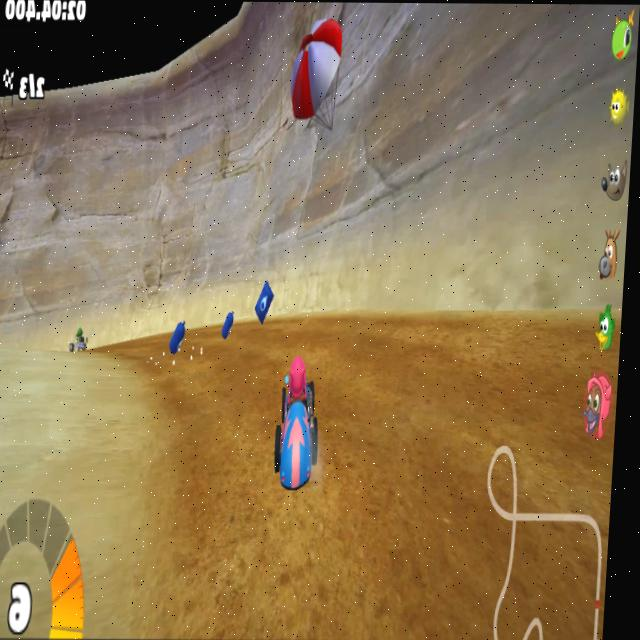bonus: (252, 281, 279, 328)
nitro: (165, 315, 187, 356), (218, 302, 235, 344)
player_kart: (266, 354, 326, 504)
track: (312, 470, 606, 623), (325, 358, 577, 439), (154, 517, 312, 624), (186, 347, 271, 504), (279, 325, 585, 353), (155, 374, 189, 510), (92, 335, 147, 362), (190, 315, 214, 344)
